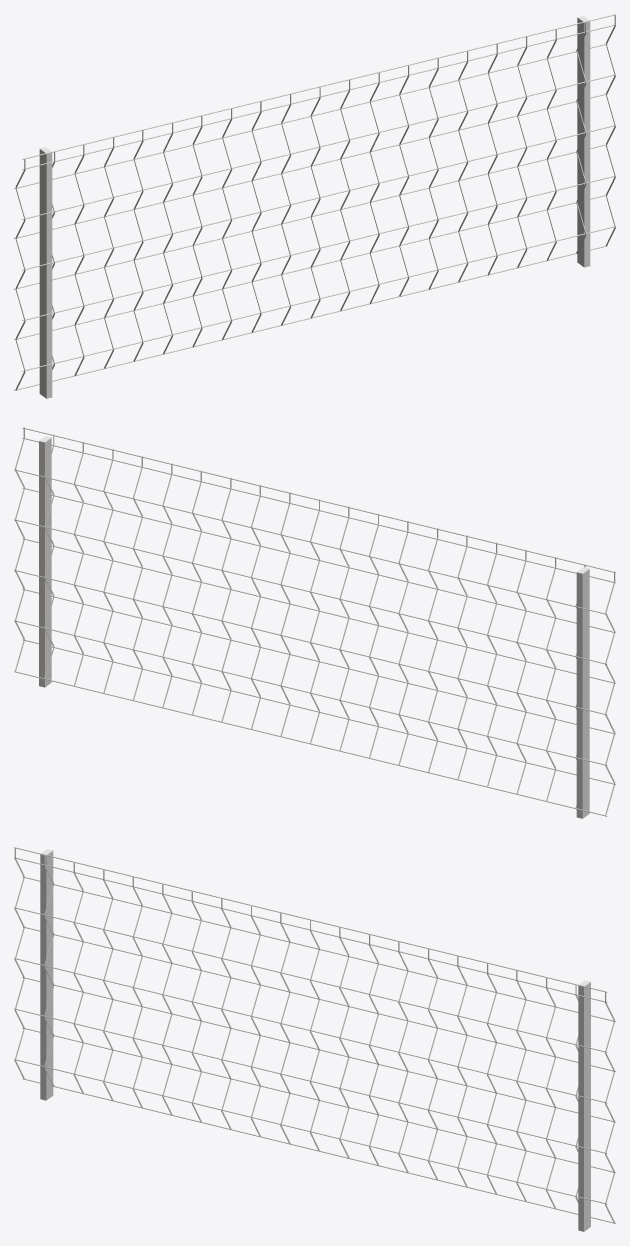
File: toremeshsingle_h800_matwhite.fbx
3 renders of one model, top to bottom at view 1: azimuth 30°, elevation 25°; view 2: azimuth 150°, elevation 25°; view 3: azimuth 330°, elevation 25°, orthographic.
Parts seen in each view (by area): view 1: toremeshsingle_h800_white; view 2: toremeshsingle_h800_white; view 3: toremeshsingle_h800_white.
Boxes of the visible parts, x1,y1,x2,y2 form: toremeshsingle_h800_white: (14,14,615,398); toremeshsingle_h800_white: (14,427,615,818); toremeshsingle_h800_white: (14,847,615,1231).
Bounding box in the file's own units: 199 × 79.15 × 5.67.
Materials: 2 (2 with a texture image).
